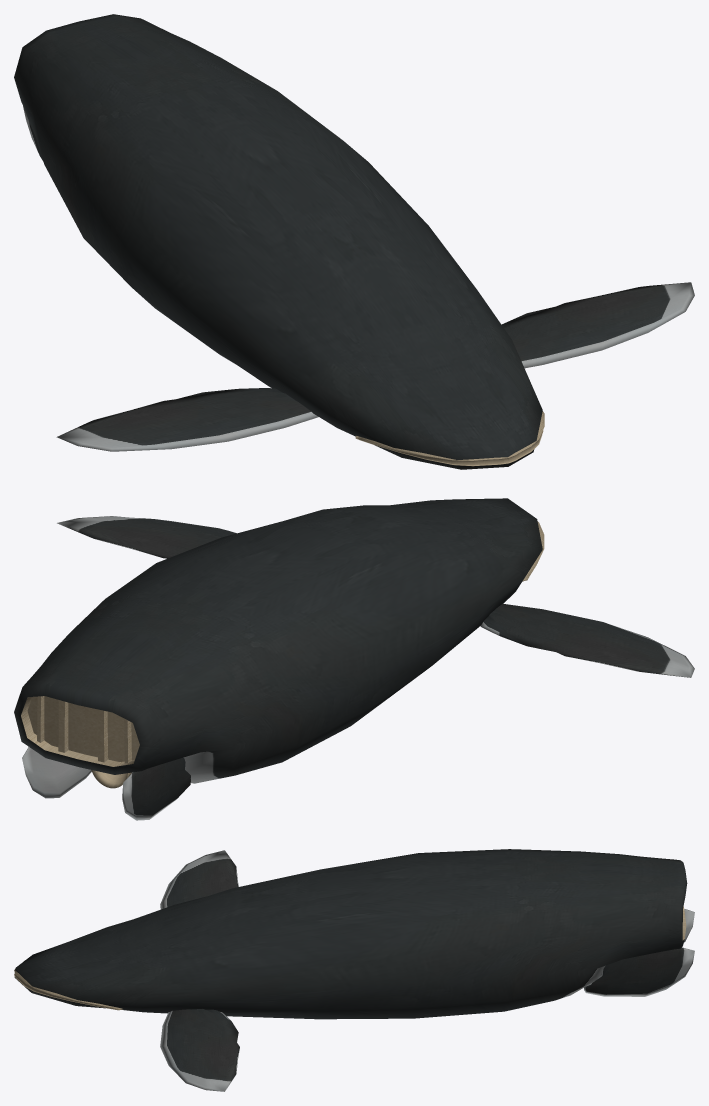
File: Player_Vessel.FBX
3 renders of one model, top to bottom at view 1: azimuth 30°, elevation 25°; view 2: azimuth 150°, elevation 25°; view 3: azimuth 270°, elevation 25°, orthographic. The views are drawn at different scales.
Parts seen in each view (by area): view 1: Exterior, Engine; view 2: Exterior, Exterior001, Engine; view 3: Exterior, Engine.
Part boxes in pixels (x1,y1,x2,y2): Exterior: (14,14,694,469); Engine: (355,411,544,466); Exterior: (14,498,694,820); Exterior001: (21,696,139,766); Engine: (91,521,544,788); Exterior: (14,849,694,1091); Engine: (14,969,122,1010).
Bounding box in the file's own units: 10862 × 2677 × 12930.
Materials: 3 (3 with a texture image).
